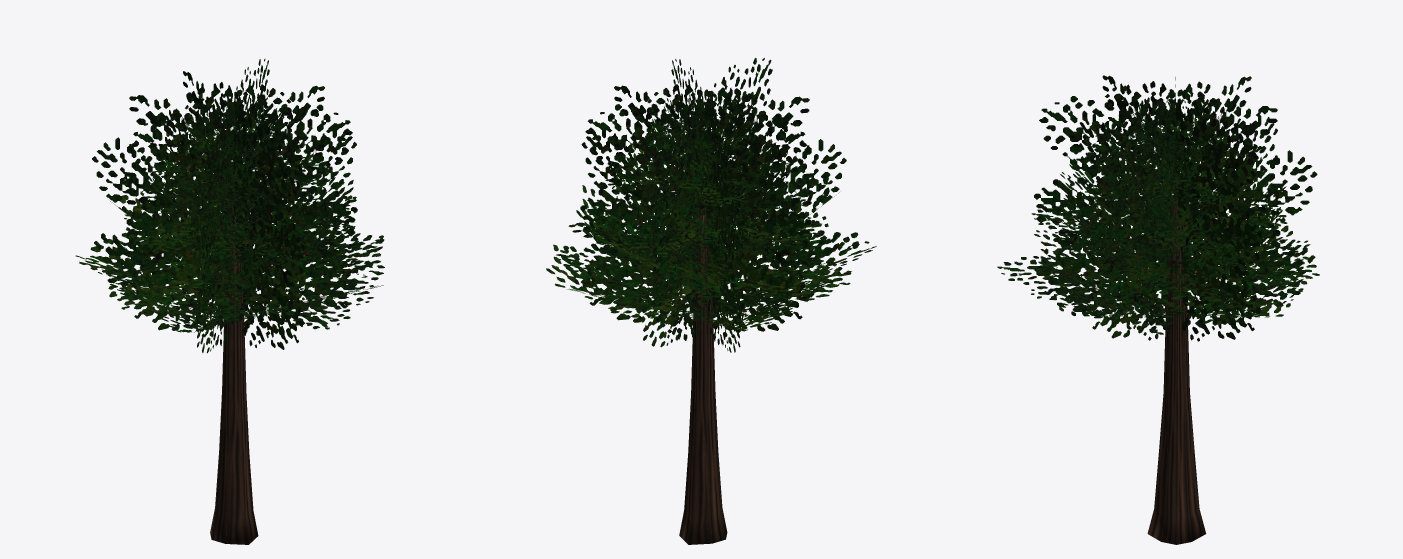
Rendered from tree1.obj.
3 renders of one model, left to right at view 1: azimuth 30°, elevation 25°; view 2: azimuth 150°, elevation 25°; view 3: azimuth 270°, elevation 25°, orthographic.
Parts seen in each view (by area): view 1: Tree_01; view 2: Tree_01; view 3: Tree_01.
Boxes of the visible parts, <box> form: Tree_01: <box>75,59,384,544</box>; Tree_01: <box>546,58,876,544</box>; Tree_01: <box>997,75,1319,544</box>.
Size of the model in its own units: 11.16 by 12.54 by 10.84.
1 material, 1 textured.
